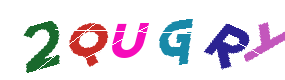2: (3, 0, 83, 80)
G: (100, 0, 180, 80)
L: (190, 0, 270, 80)
Q: (49, 0, 129, 80)
R: (134, 0, 214, 80)
U: (88, 0, 168, 80)
Y: (187, 0, 267, 80)
